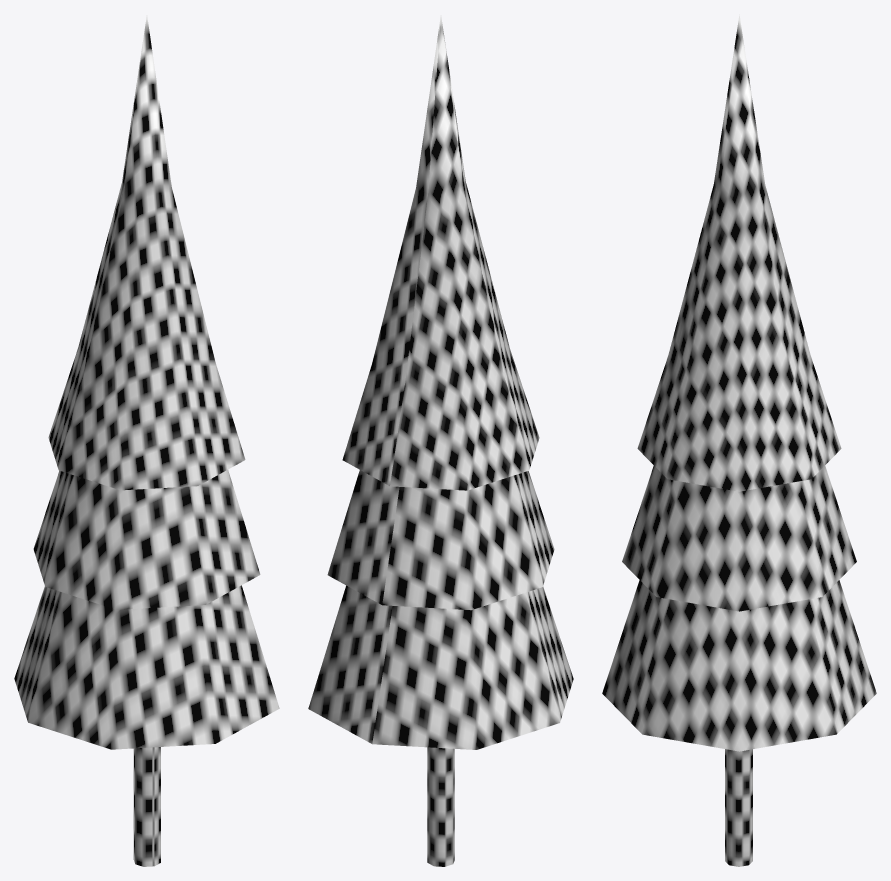
Rendered from Arbol_03.obj.
3 views of the same model, side by side, from view 1: azimuth 30°, elevation 25°; view 2: azimuth 150°, elevation 25°; view 3: azimuth 270°, elevation 25° (orthographic).
Visible parts, largest first — view 1: Arbol_03; view 2: Arbol_03; view 3: Arbol_03.
Part boxes in pixels (x1,y1,x2,y2): Arbol_03: [14, 15, 279, 866]; Arbol_03: [308, 15, 573, 866]; Arbol_03: [602, 14, 876, 866].
Size of the model in its own units: 13.41 by 45.64 by 13.41.
Materials: 1 (1 with a texture image).
